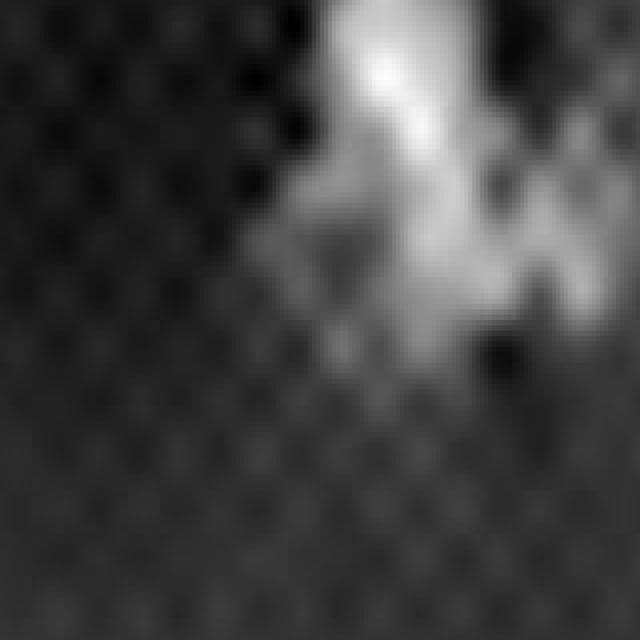person: (273, 1, 549, 433)
